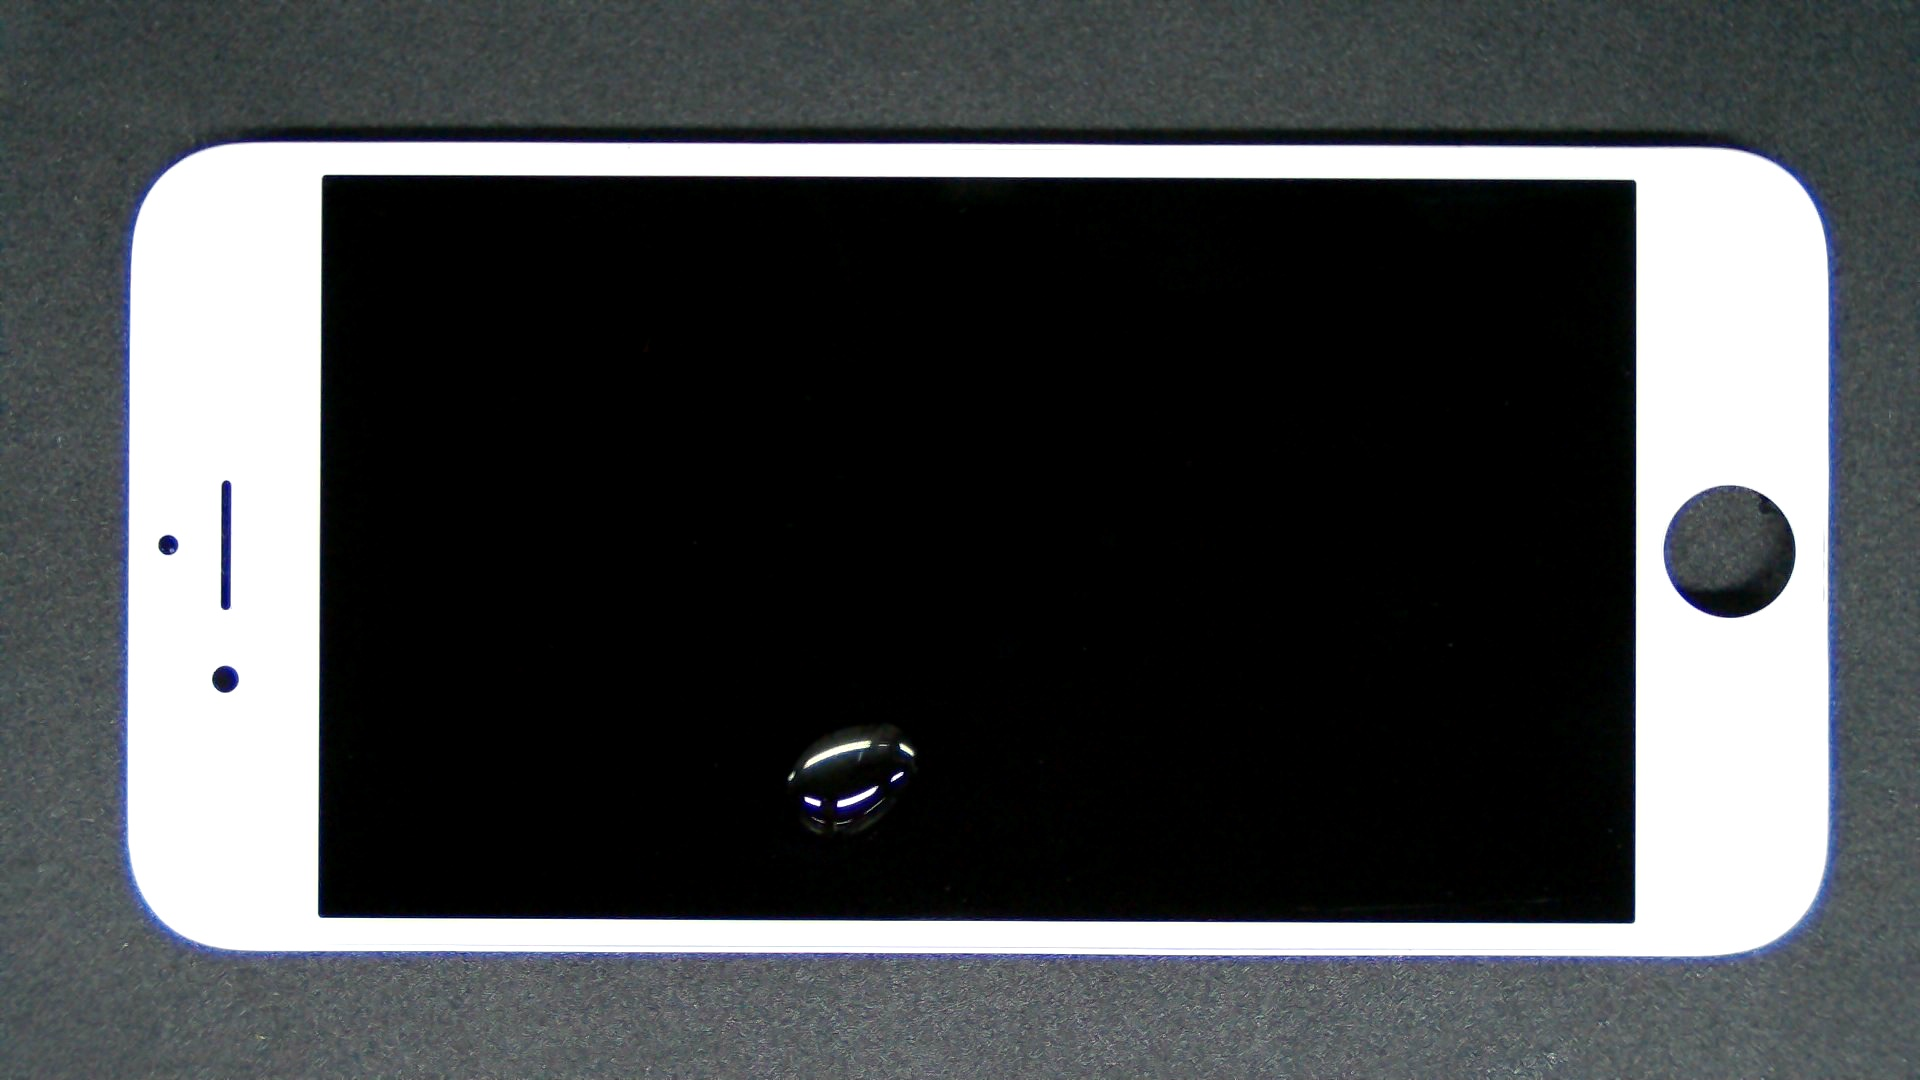oil: (448, 361, 1345, 1080)
